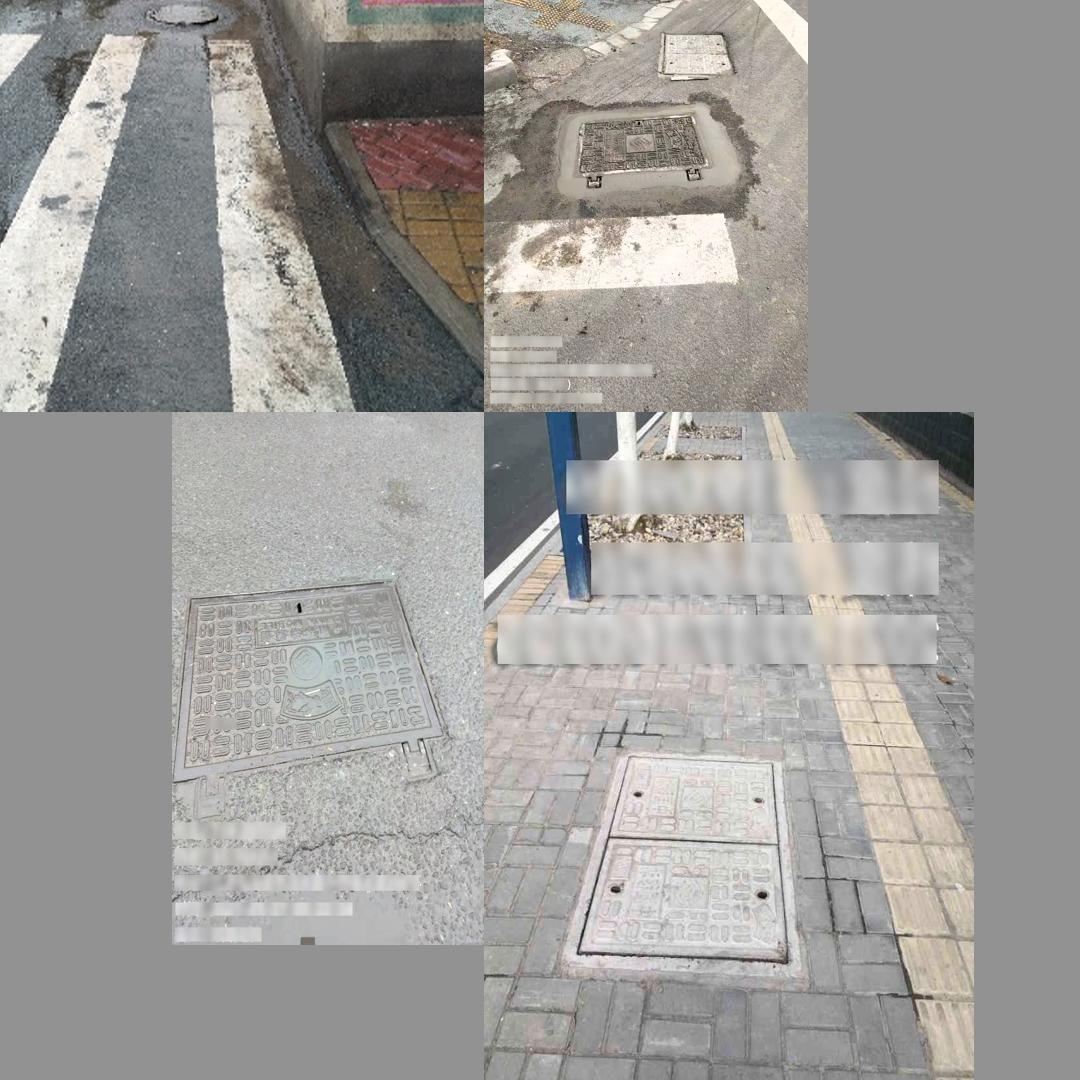good: (172, 575, 445, 794), (558, 749, 802, 973), (571, 110, 714, 189), (657, 30, 736, 81), (125, 0, 232, 36)
